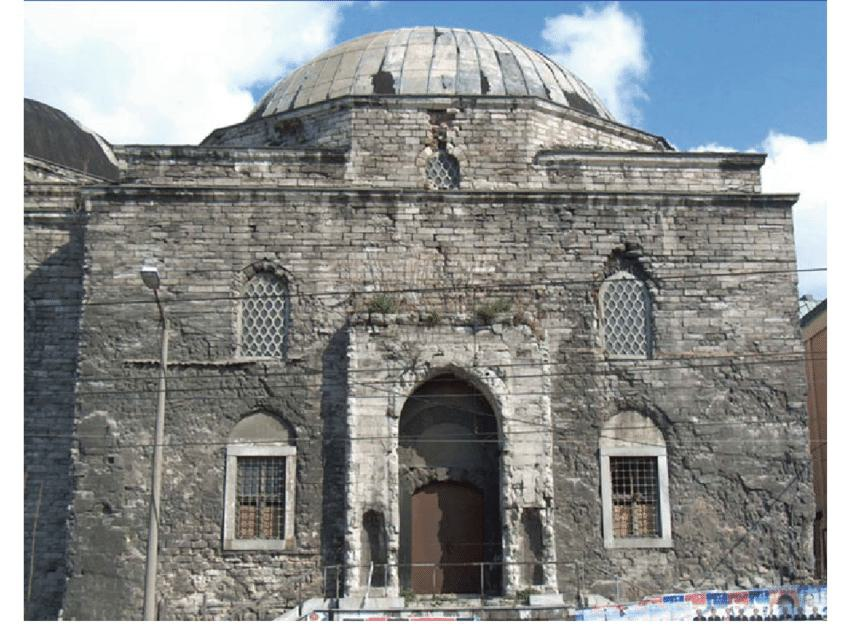crack: (416, 108, 465, 162)
